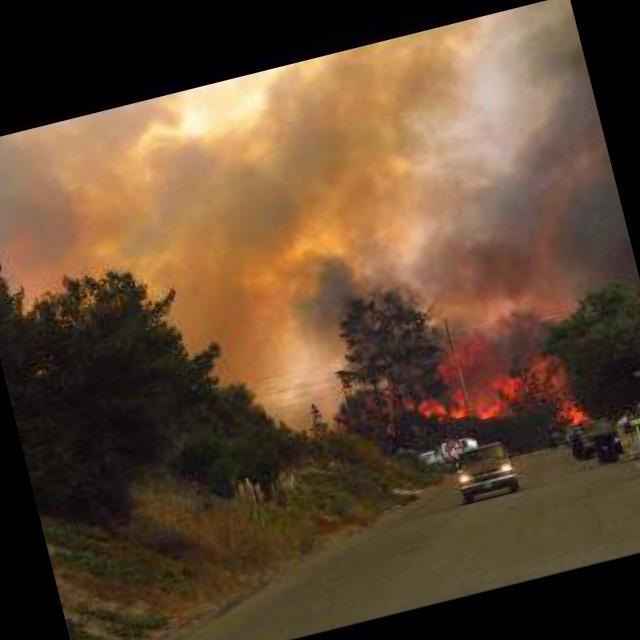fire: (364, 310, 590, 470)
smoke: (478, 0, 640, 319), (376, 165, 566, 388), (259, 218, 389, 366)
